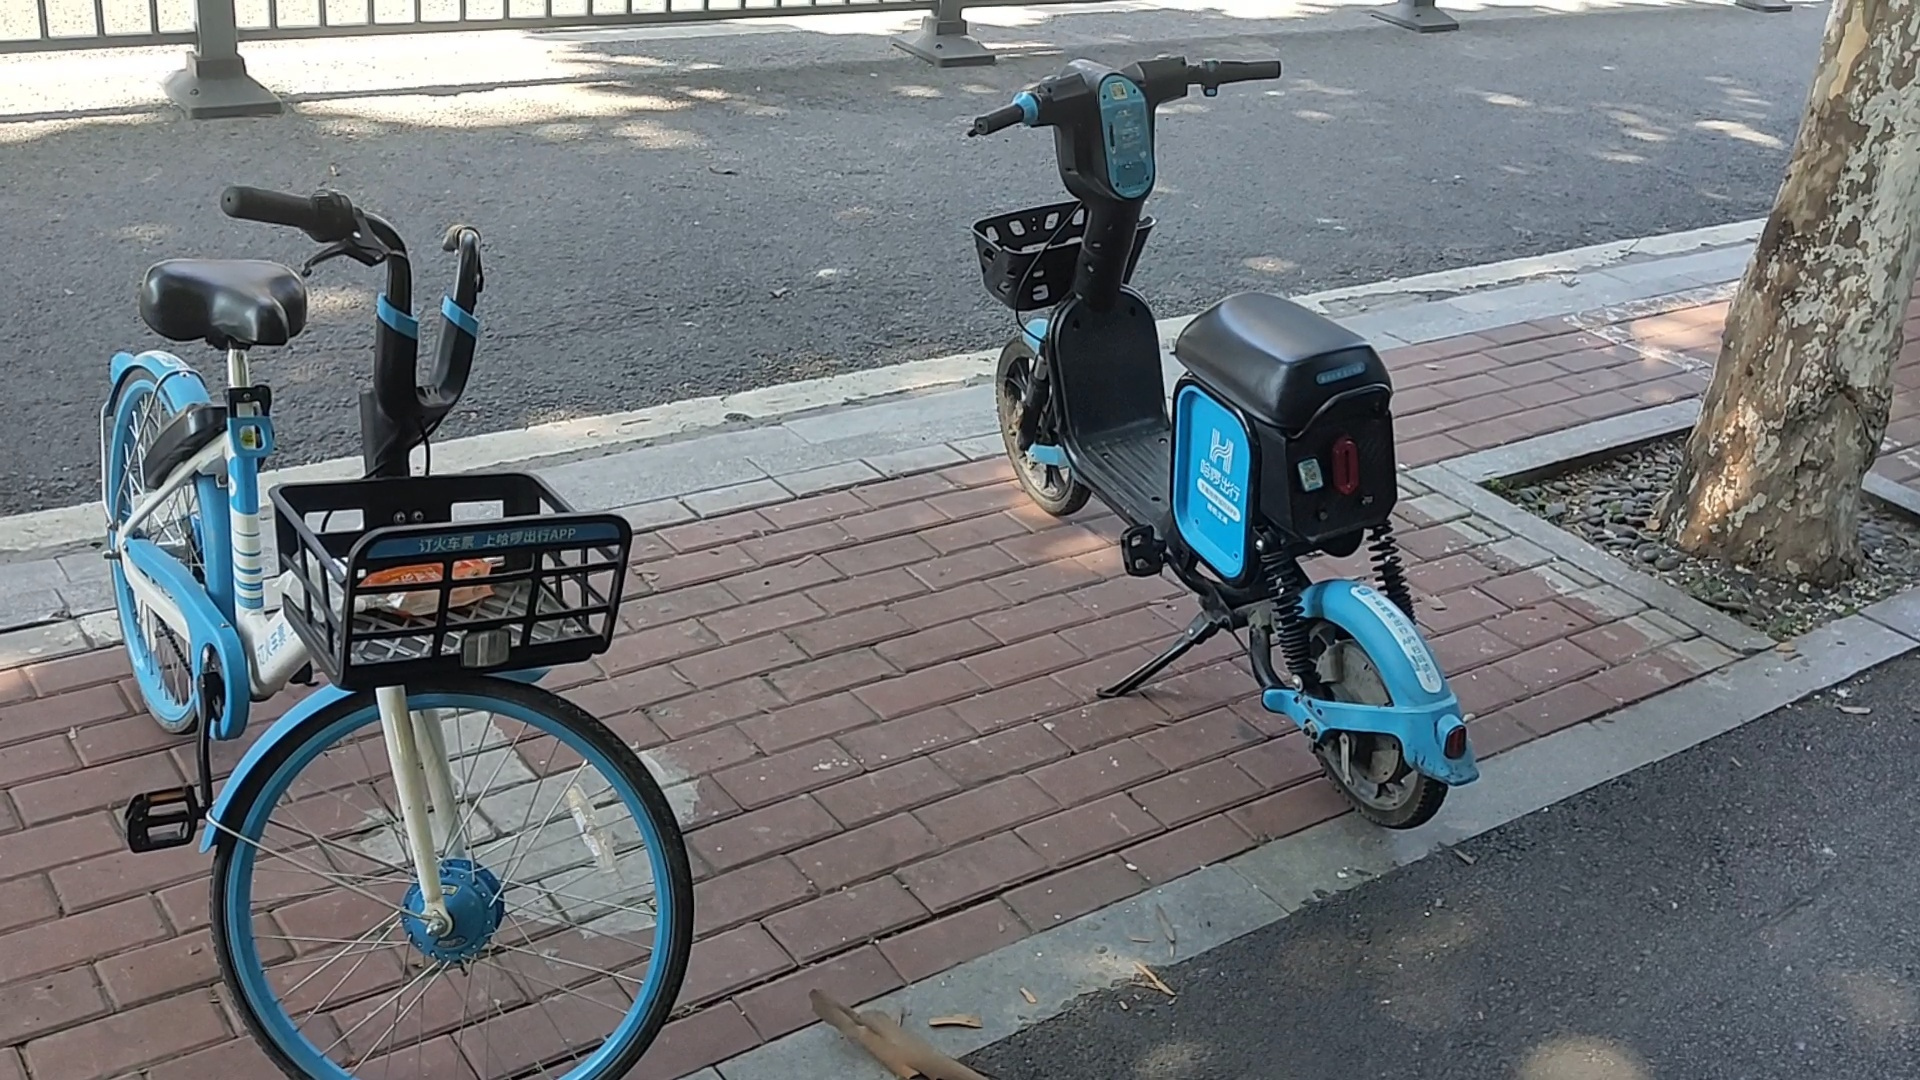non-vehicle: (50, 164, 695, 1054), (961, 46, 1491, 837)
